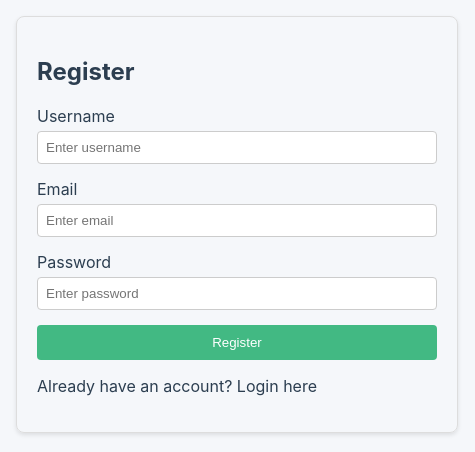
Test: Register.vue › successfully registers and shows success message
Type "newuser" into the field with placeholder "Enter username" at (237,147), box top-left (37, 131), bottom-right (437, 164)
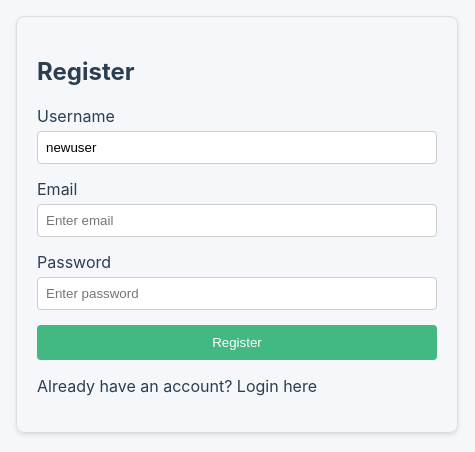
Type "newuser@example.com" into the field with placeholder "Enter email" at (237,220), box top-left (37, 204), bottom-right (437, 237)
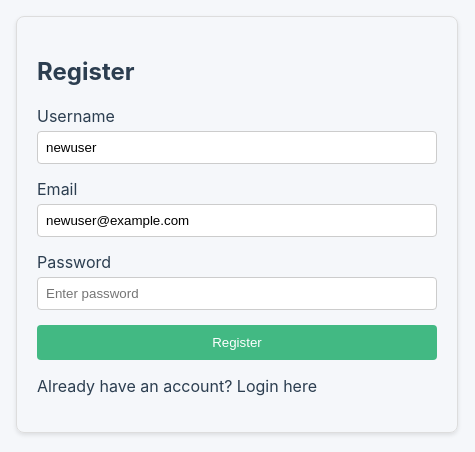
Type "password123" into the password field with placeholder "Enter password" at (237,293), box top-left (37, 277), bottom-right (437, 310)
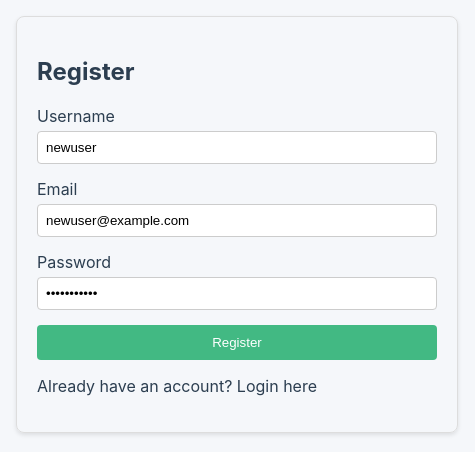
Submit the form, box top-left (37, 106), bottom-right (437, 396)
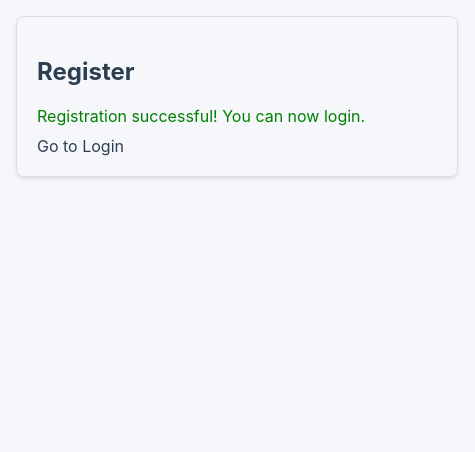
Now the text with class "success" shows "Registration successful", box top-left (37, 106), bottom-right (365, 126)
